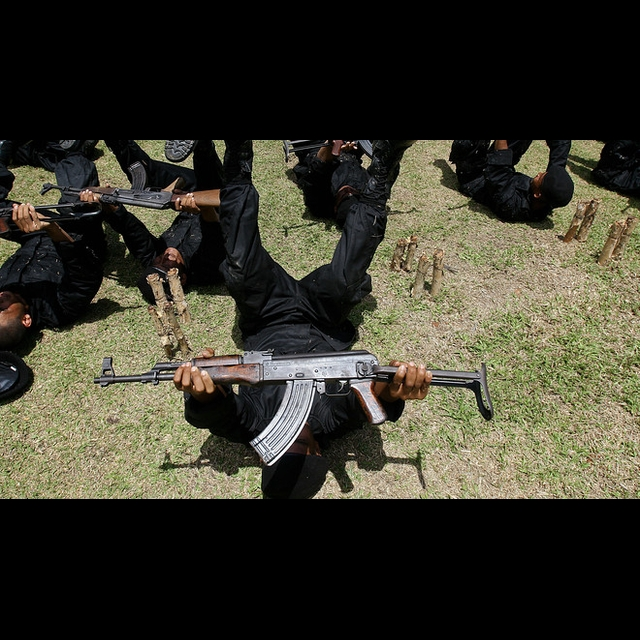AK47: (92, 356, 396, 465), (36, 161, 223, 210)
